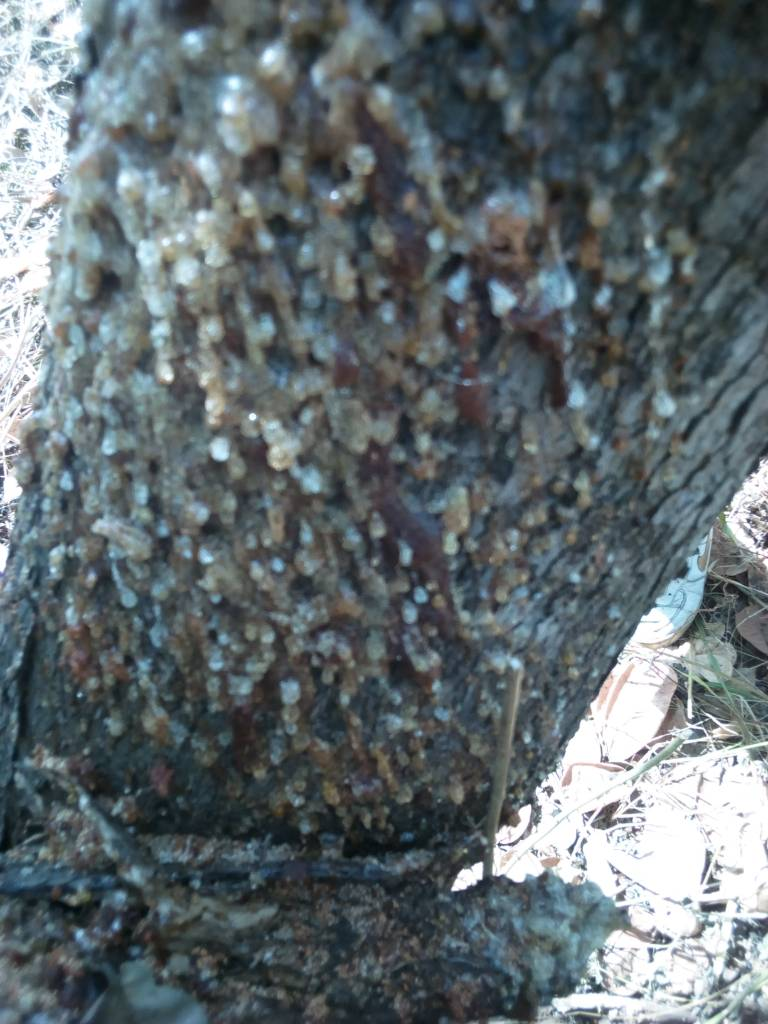Gommose: (82, 8, 688, 1002)
